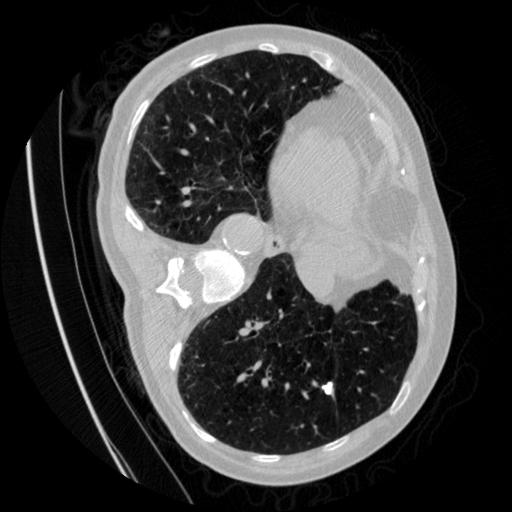nodule: (320, 381, 339, 400)
